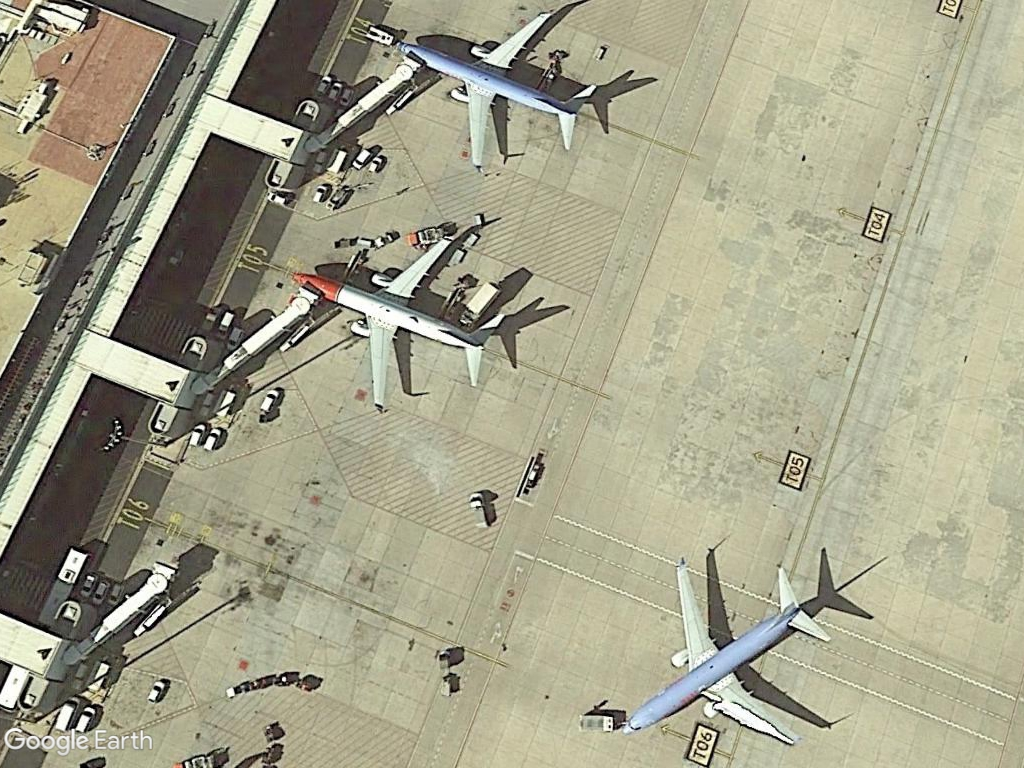airliner: (613, 550, 842, 754), (291, 227, 518, 417), (394, 1, 603, 177)
pushbacktruck: (361, 21, 399, 48)
truck: (465, 490, 493, 538)
van: (51, 693, 83, 739)
